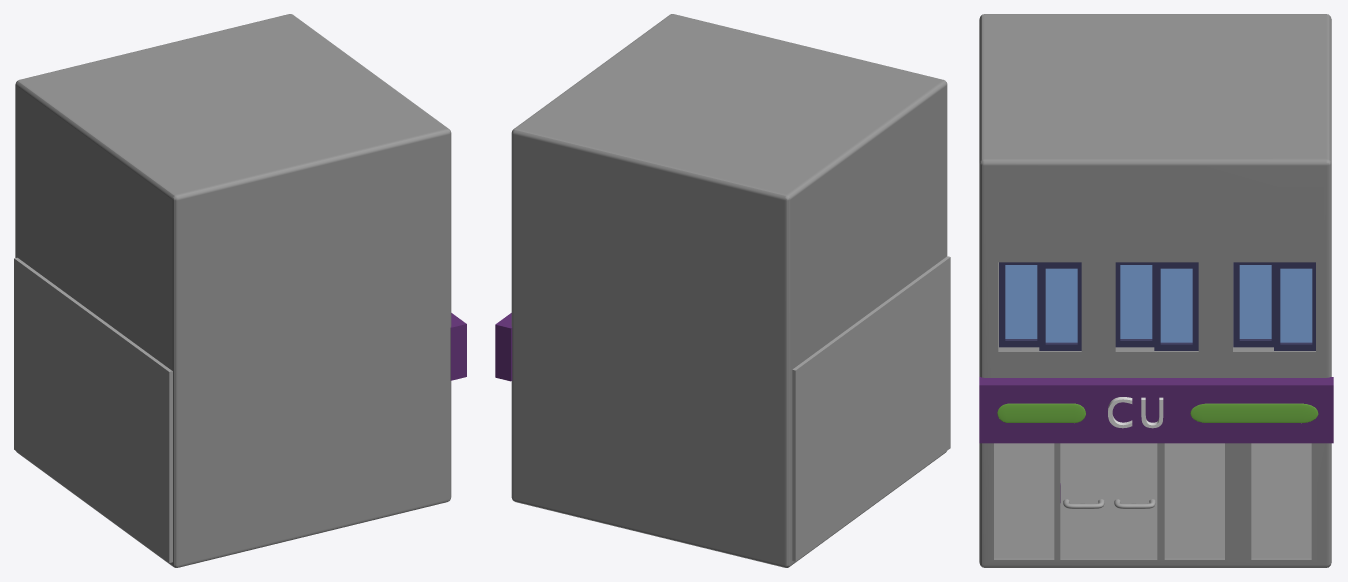
3 renders of one model, left to right at view 1: azimuth 30°, elevation 25°; view 2: azimuth 150°, elevation 25°; view 3: azimuth 270°, elevation 25°, orthographic. The views are drawn at different scales.
Visible parts, largest first — view 1: polySurface2, pCube13, pCube2; view 2: polySurface2, pCube13, pCube2; view 3: polySurface2, pCube2, pCube8, pCube9, pCube12, pCube10, pCube11, pCube22, pCube19, pCube24, pCube25, pCube21 (+4 smaller).
Part boxes in pixels (bbox=[...]): polySurface2: bbox=[15, 14, 451, 567]; pCube13: bbox=[14, 257, 172, 562]; pCube2: bbox=[450, 313, 466, 380]; polySurface2: bbox=[511, 14, 947, 567]; pCube13: bbox=[792, 256, 950, 561]; pCube2: bbox=[495, 313, 512, 381]; polySurface2: bbox=[979, 14, 1331, 567]; pCube2: bbox=[979, 377, 1333, 443]; pCube8: bbox=[1251, 443, 1311, 557]; pCube9: bbox=[1164, 443, 1224, 557]; pCube12: bbox=[994, 443, 1054, 557]; pCube10: bbox=[1109, 443, 1157, 558]; pCube11: bbox=[1060, 443, 1108, 558]; pCube22: bbox=[1154, 262, 1198, 350]; pCube19: bbox=[1039, 262, 1081, 350]; pCube24: bbox=[1274, 262, 1315, 350]; pCube25: bbox=[1233, 262, 1273, 347]; pCube21: bbox=[999, 262, 1039, 347].
Size of the model in its own units: 26.39 by 31.32 by 24.6.
